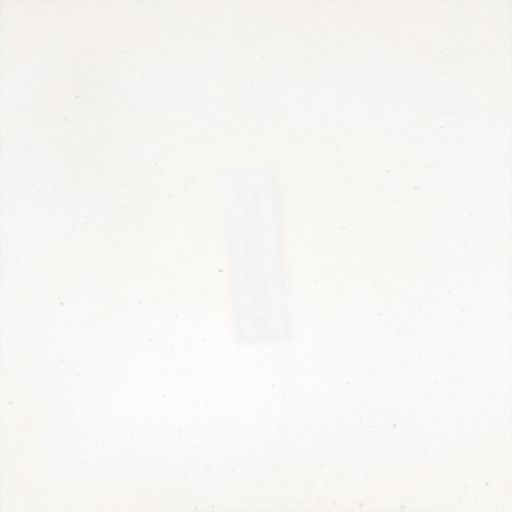lego: (217, 166, 293, 346)
